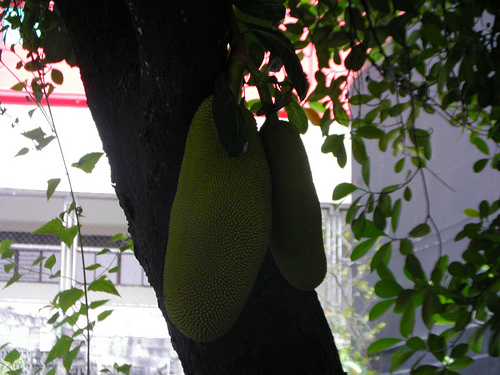jackfruit: (161, 56, 276, 345), (259, 120, 327, 289)
